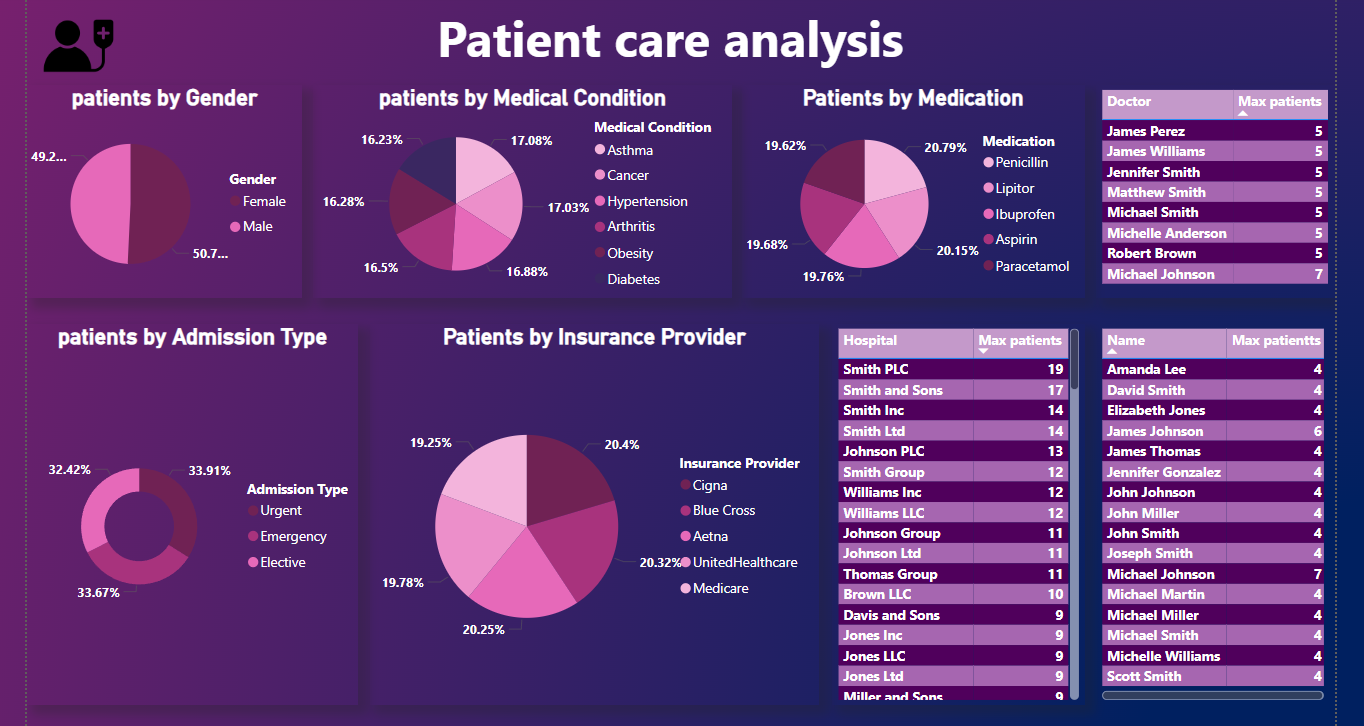

Layout of this report page (visuals, bound fields, positions):
{"tool":"powerbi","page":{"name":"patient analysis","canvas":[1280,720],"ordinal":2},"visuals":[{"type":"pieChart","title":"patients by Gender","fields":{"Y":["CountNonNull(healthcare_dataset.ID)"],"Category":["healthcare_dataset.Gender"]},"box":[0,88,268.9,209],"z":0},{"type":"pieChart","title":"patients by Medical Condition","fields":{"Y":["CountNonNull(healthcare_dataset.ID)"],"Category":["healthcare_dataset.Medical Condition"]},"box":[279.9,88,409.5,209],"z":1000},{"type":"pieChart","title":"Patients by Medication","fields":{"Y":["CountNonNull(healthcare_dataset.ID)"],"Category":["healthcare_dataset.Medication"]},"box":[699.2,88,334.9,209],"z":2000},{"type":"tableEx","fields":{"Values":["healthcare_dataset.Doctor","CountNonNull(healthcare_dataset.ID)"]},"box":[1045.2,88,234.7,209],"z":3000},{"type":"tableEx","fields":{"Values":["healthcare_dataset.Name","CountNonNull(healthcare_dataset.ID)"]},"box":[1045.2,321.5,228.6,372.8],"z":4000},{"type":"donutChart","title":"patients by Admission Type","fields":{"Category":["healthcare_dataset.Admission Type"],"Y":["CountNonNull(healthcare_dataset.ID)"]},"box":[0,321.5,323.9,372.8],"z":5000},{"type":"pieChart","title":"Patients by Insurance Provider","fields":{"Category":["healthcare_dataset.Insurance Provider"],"Y":["CountNonNull(healthcare_dataset.ID)"]},"box":[334.9,321.5,440.1,372.8],"z":6000},{"type":"tableEx","fields":{"Values":["healthcare_dataset.Hospital","CountNonNull(healthcare_dataset.ID)"]},"box":[787.2,321.5,246.9,372.8],"z":7000},{"type":"textbox","box":[396.1,3.7,487.7,74.6],"z":8000},{"type":"image","box":[0,0,100.2,99],"z":9000}]}

Visuals, with their boxes on the page's 1280x720 design canvas (x1, y1, x2, y2). These are canvas units, not pixel positions in the 1364x726 screenshot, which may show the page scaled, cropped or inside an application window:
"patients by Gender" pieChart: (0,88,269,297)
"patients by Medical Condition" pieChart: (280,88,689,297)
"Patients by Medication" pieChart: (699,88,1034,297)
tableEx - healthcare_dataset.Doctor x CountNonNull(healthcare_dataset.ID): (1045,88,1280,297)
tableEx - healthcare_dataset.Name x CountNonNull(healthcare_dataset.ID): (1045,322,1274,694)
"patients by Admission Type" donutChart: (0,322,324,694)
"Patients by Insurance Provider" pieChart: (335,322,775,694)
tableEx - healthcare_dataset.Hospital x CountNonNull(healthcare_dataset.ID): (787,322,1034,694)
textbox: (396,4,884,78)
image: (0,0,100,99)
